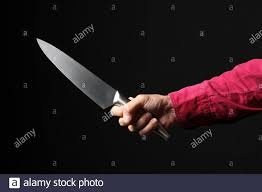knife: (35, 37, 171, 145)
